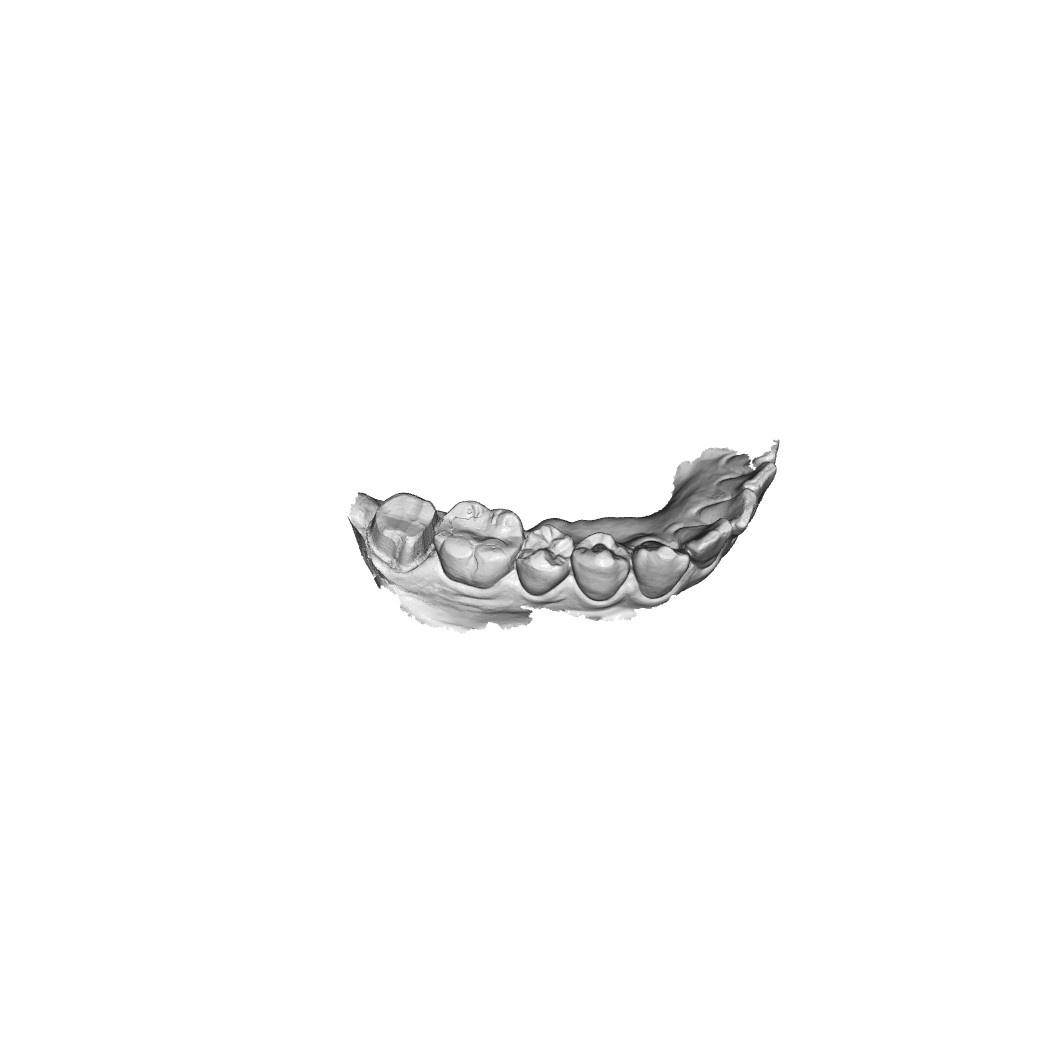canine: (638, 538, 689, 595)
crown: (364, 489, 437, 576)
incisor: (701, 496, 760, 537), (725, 467, 785, 500), (679, 521, 730, 558)
molar: (440, 502, 522, 578)
premolar: (518, 525, 569, 592), (574, 534, 627, 598)
